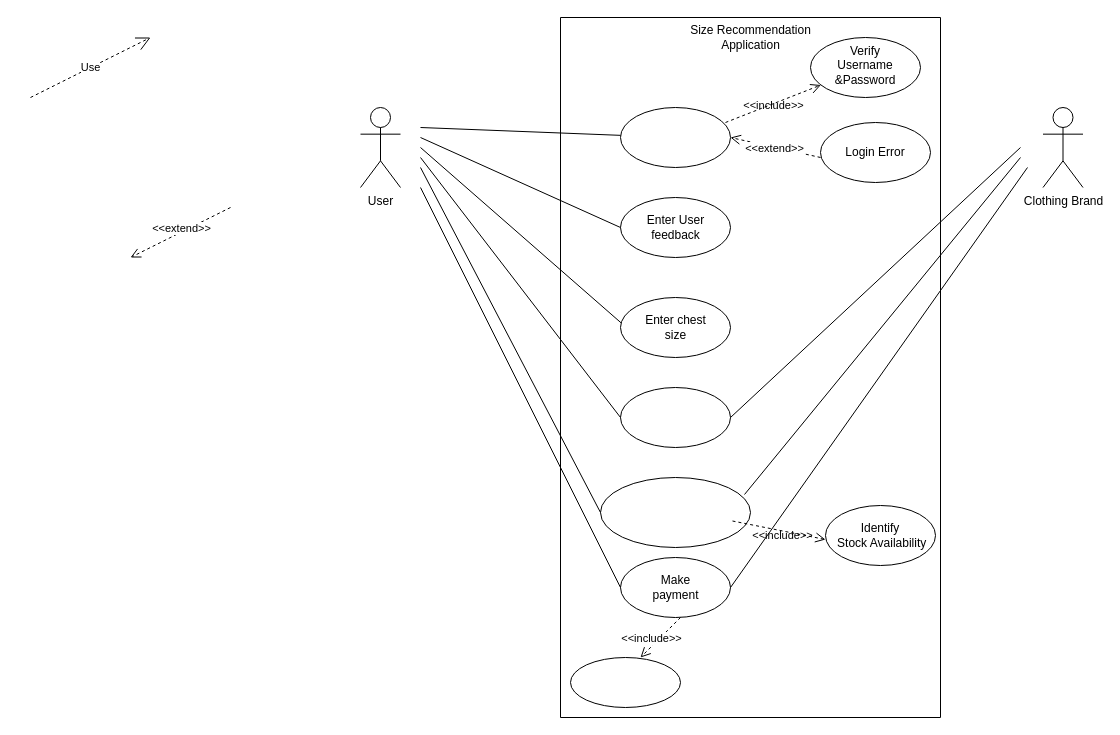
Image size: 1120x735. Some labels were removed from this diagram. Here are the shapes that lost their labels. From the top down, the box of each, then its label:
(620, 106, 730, 168): Login
(620, 386, 730, 448): Select clothing item
(600, 476, 750, 548): Get recomended size & Check availability
(570, 656, 680, 708): PayPal payment verification
